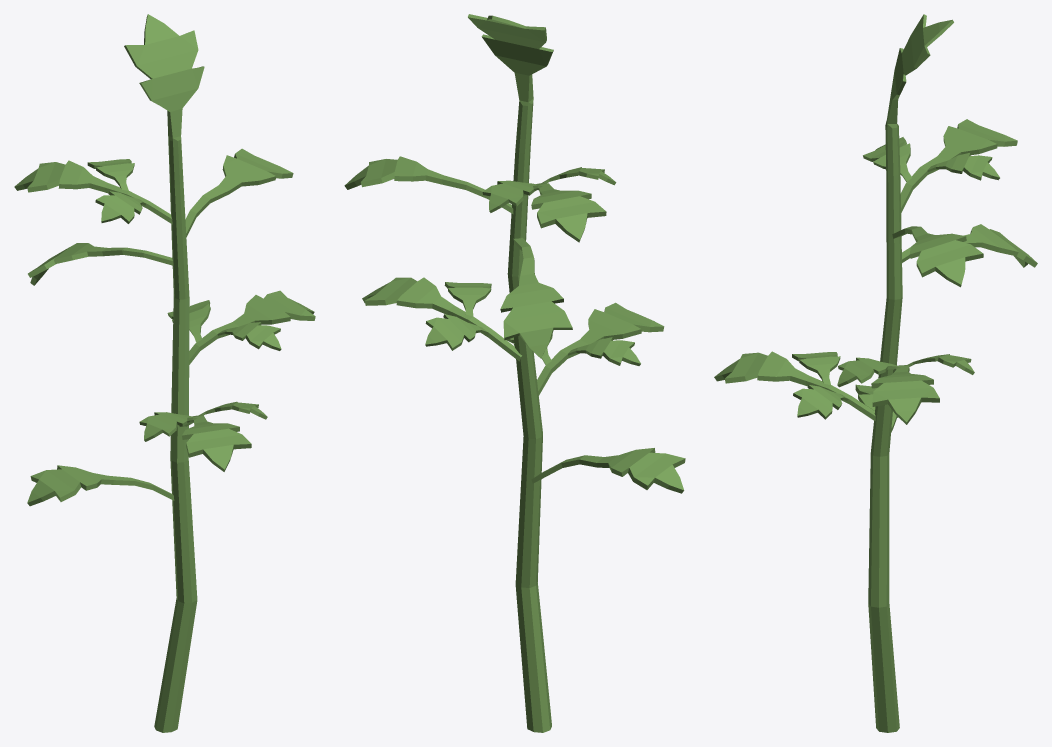
Rendered from Tomato_3.gltf.
3 renders of one model, left to right at view 1: azimuth 30°, elevation 25°; view 2: azimuth 150°, elevation 25°; view 3: azimuth 270°, elevation 25°, orthographic. The views are drawn at different scales.
Parts seen in each view (by area): view 1: Tomato_3; view 2: Tomato_3; view 3: Tomato_3.
Part boxes in pixels (x1,y1,x2,y2): Tomato_3: [14, 14, 315, 732]; Tomato_3: [344, 14, 685, 732]; Tomato_3: [714, 14, 1037, 732].
Size of the model in its own units: 0.6409 by 1.43 by 0.5863.
